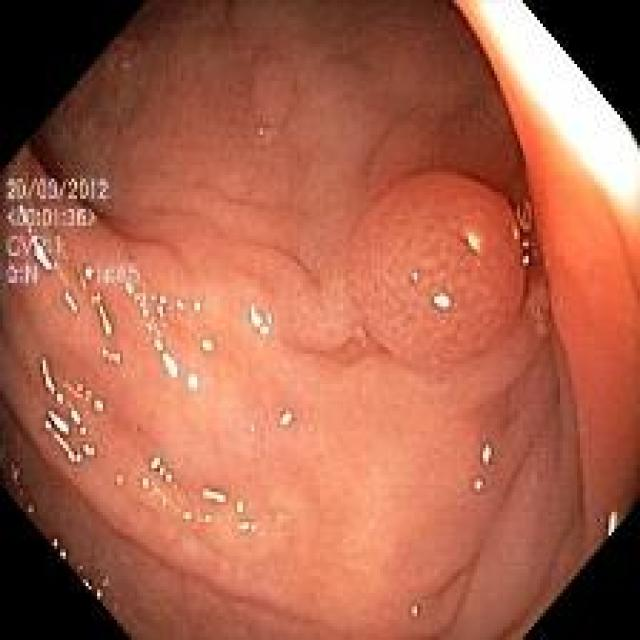Polyps: (349, 172, 526, 369)
